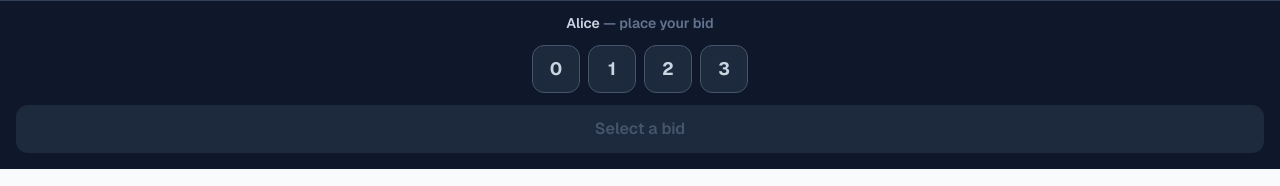
it: BiddingPhase › submit button enables after selecting a bid
Click the button named "Bid 2" at {"x": 668, "y": 69}, box x1=644 y1=45 x2=692 y2=93
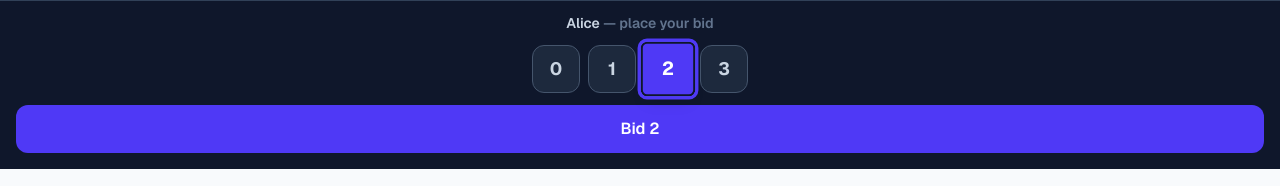
expect the button with test id "bid-submit-button" is enabled: met, box x1=16 y1=105 x2=1264 y2=153
